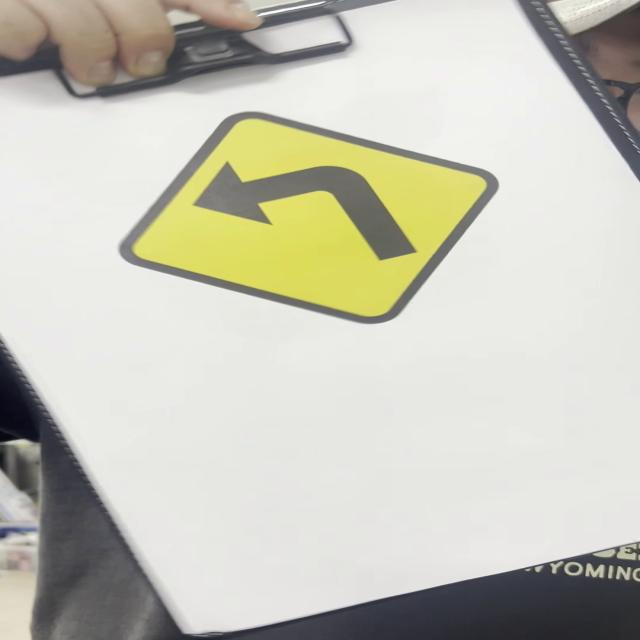left: (123, 114, 505, 326)
